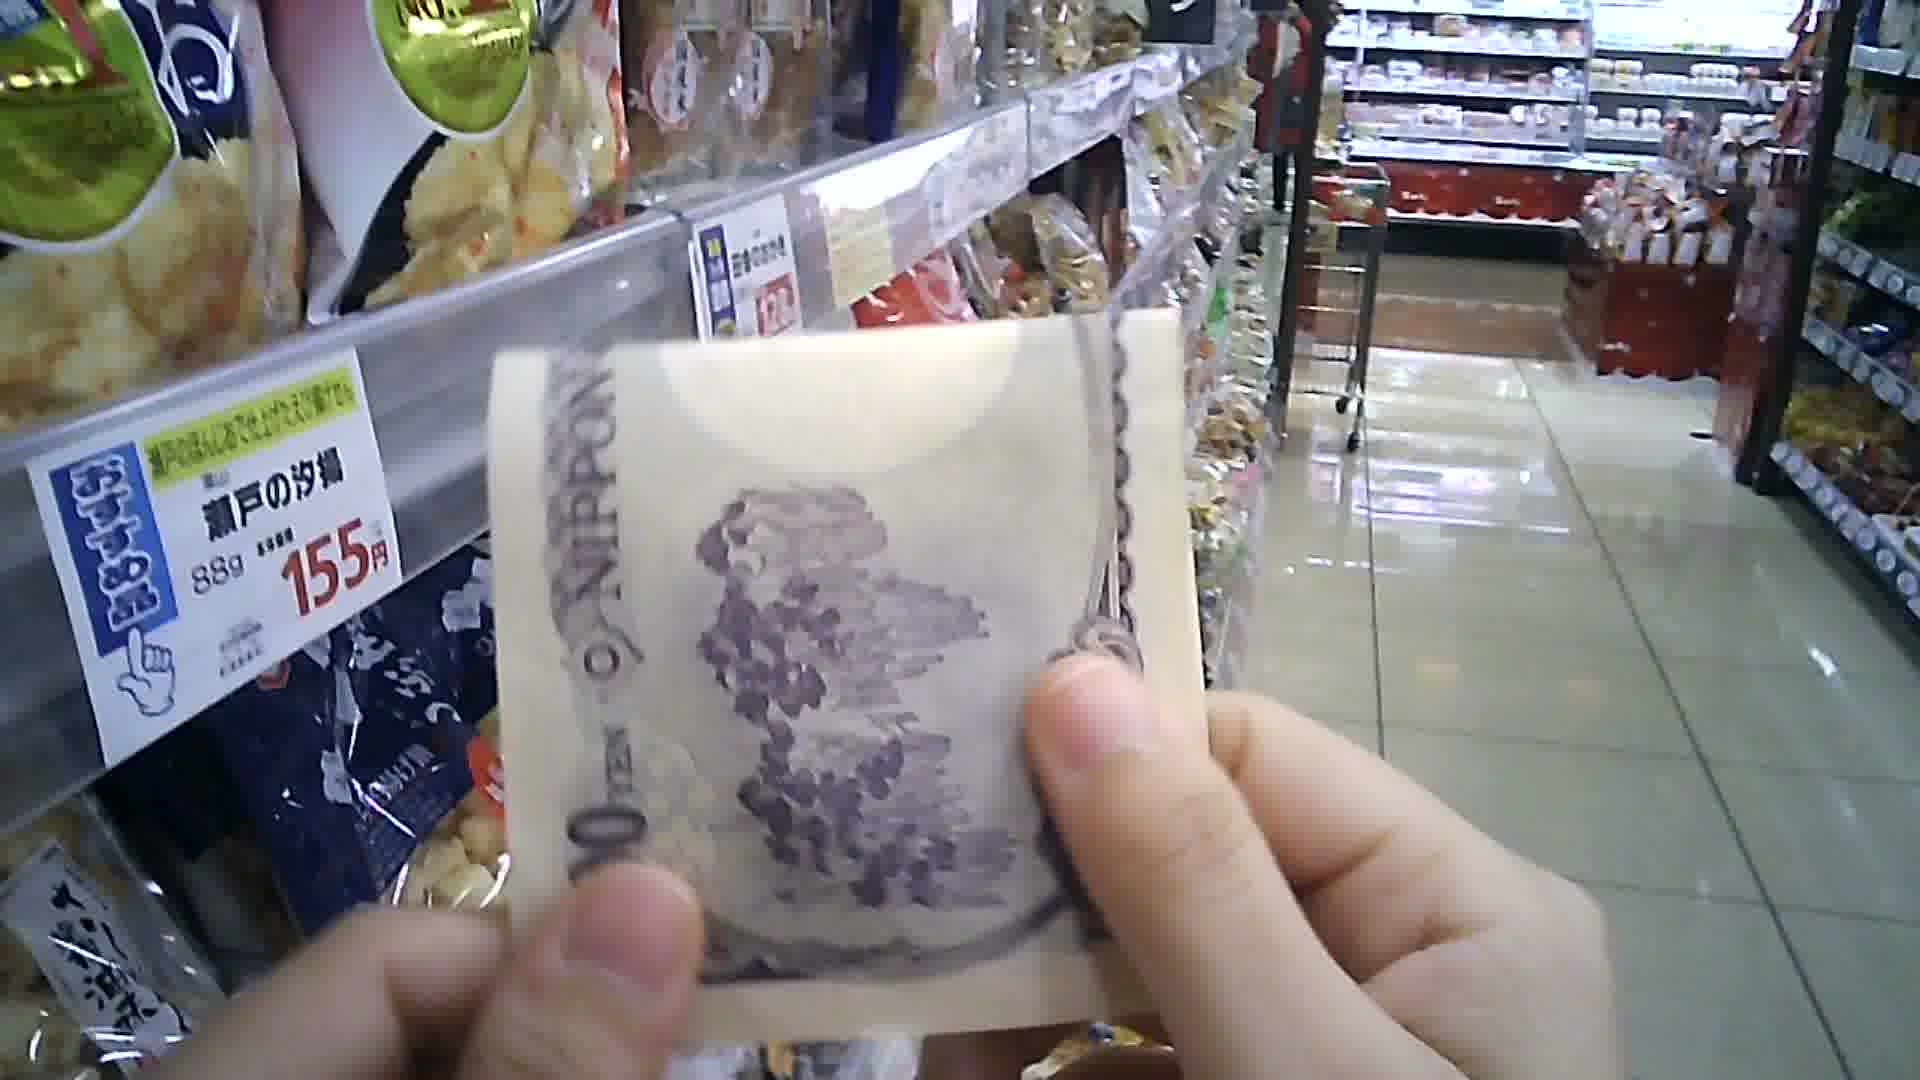5,000 Yen: (469, 306, 1233, 1005)
